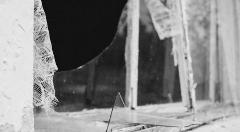glass: (103, 91, 208, 132)
